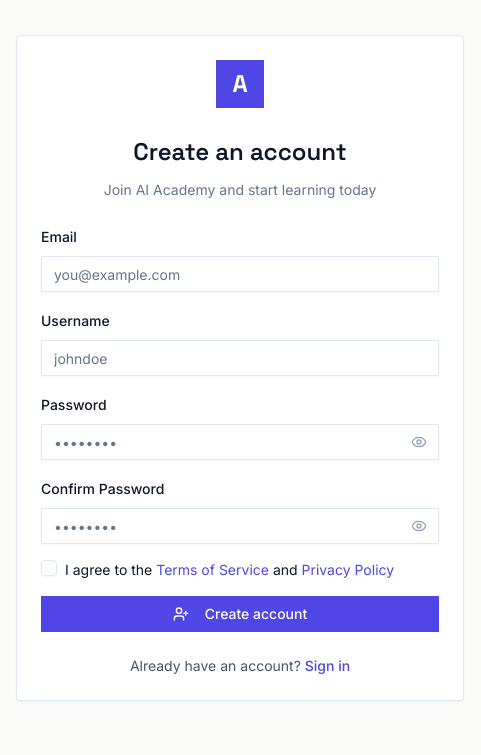
Test case: Registration Checkbox Validation › Form Validation › should validate password confirmation
This screenshot has width=481, height=755.
Type "TestPass123!" into the password field labelled "Password" at (240,442), box [41, 424, 439, 460]
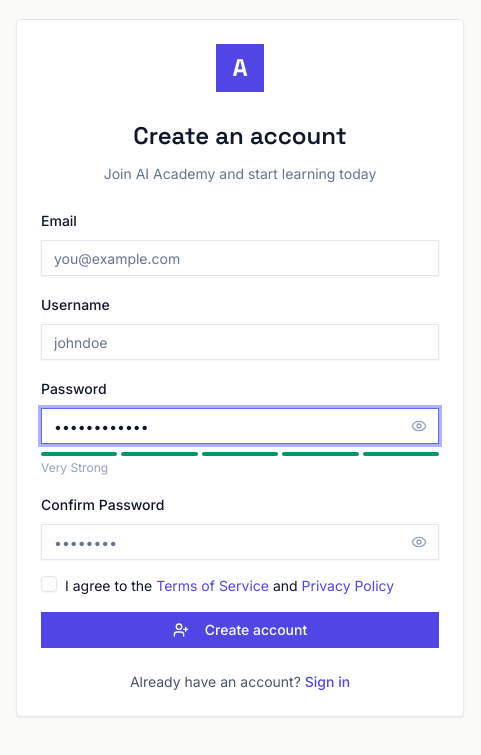
Type "DifferentPass123!" into the password field labelled "Confirm Password" at (240,542), box [41, 524, 439, 560]
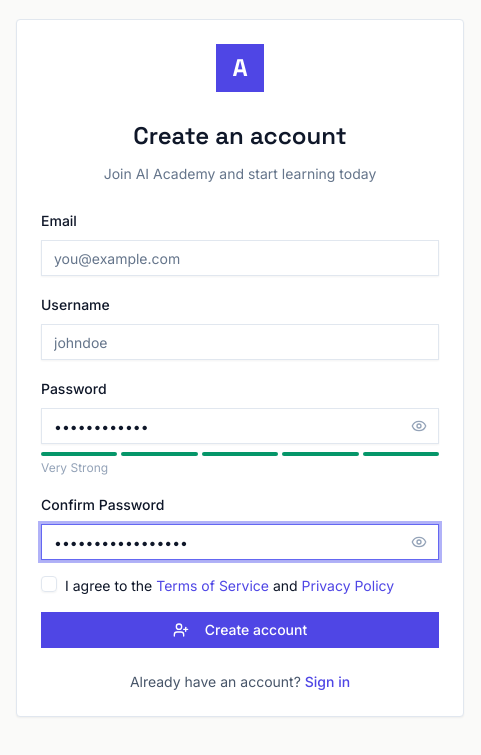
Click the button "Create account" at (240,630), box [41, 612, 439, 648]
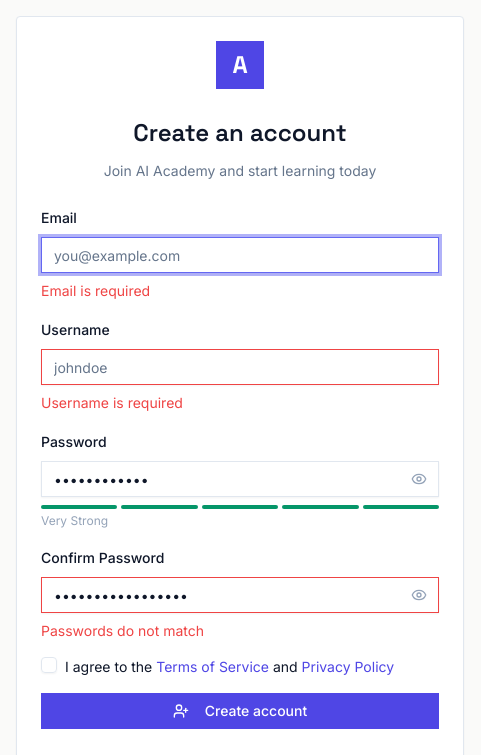
Check: the text "Passwords do not match" is shown, box [41, 622, 204, 639]
